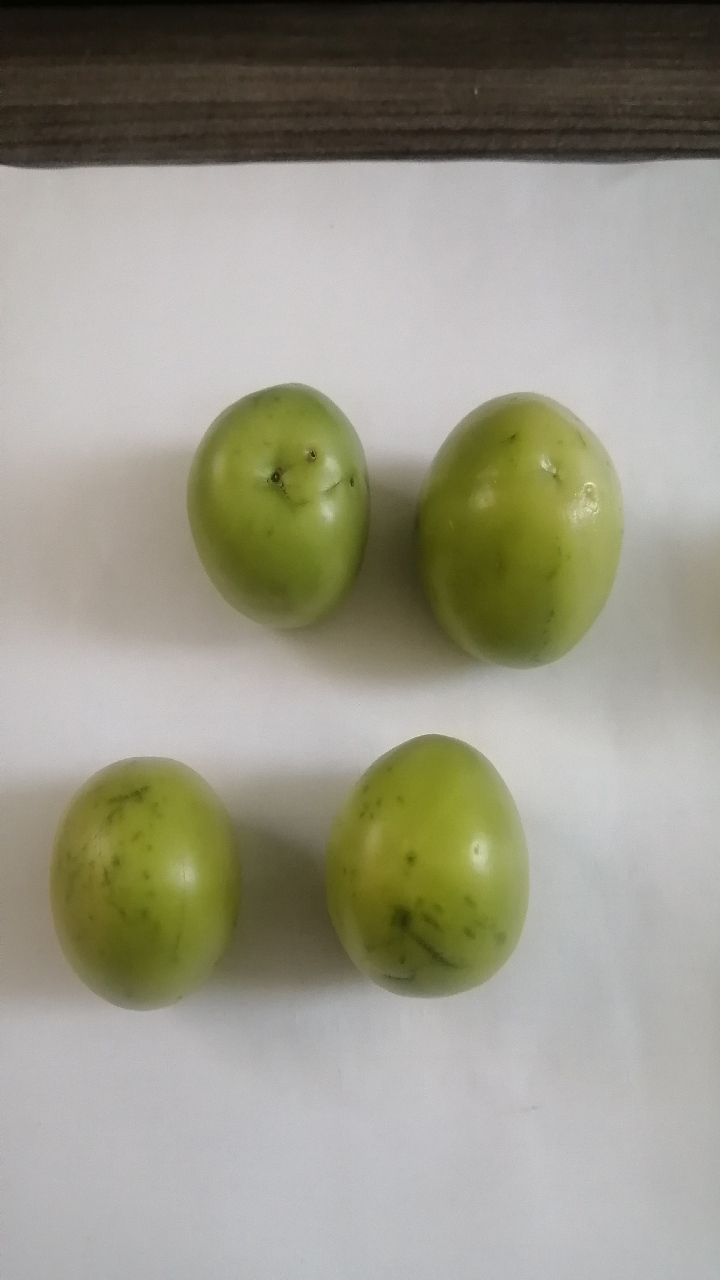tomateVerde: (298, 723, 563, 1020), (392, 368, 617, 694), (31, 735, 254, 1028), (171, 360, 388, 648)
